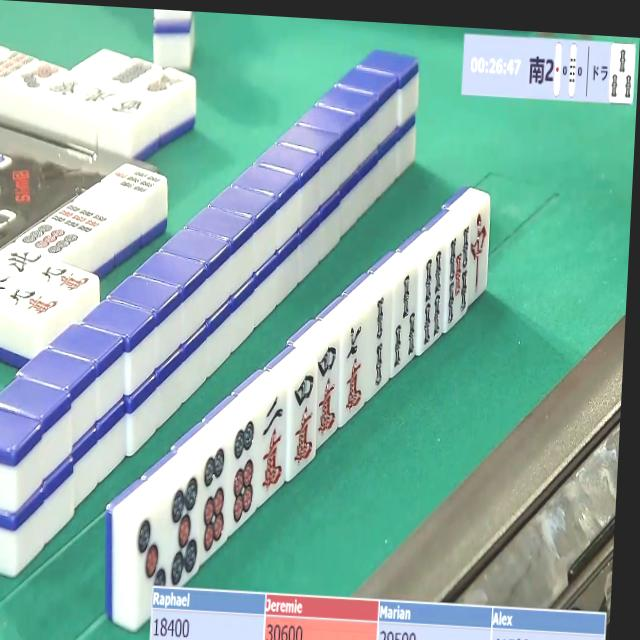m2: (258, 390, 290, 501)
m4: (287, 370, 320, 475), (314, 339, 345, 440)
m7: (339, 317, 374, 419)
m9: (0, 285, 65, 324)
s2: (364, 292, 395, 393)
s3: (390, 270, 422, 376), (611, 46, 636, 103)
s4: (419, 250, 450, 355)
s5: (441, 231, 471, 332)
t3: (134, 503, 169, 587)
t5: (167, 473, 205, 593)
t6: (197, 442, 234, 562), (227, 416, 261, 533)
t9: (17, 221, 85, 258)
zhong: (467, 209, 491, 299)
